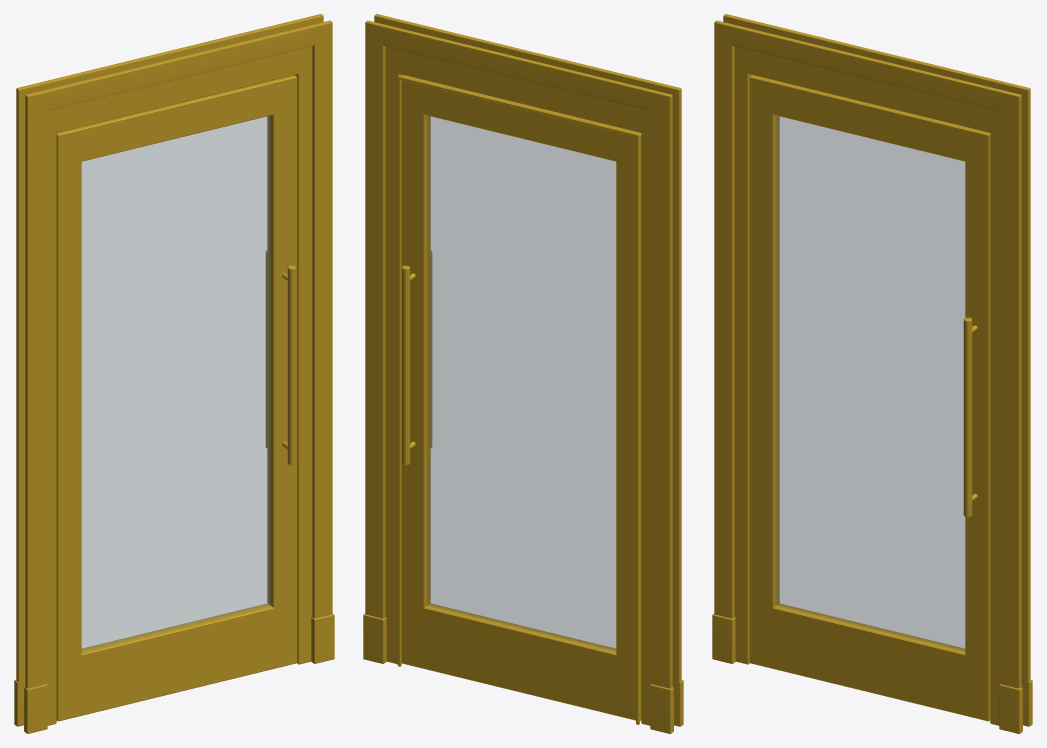
Rendered from prop_door_single_glass_t04.glb.
3 renders of one model, left to right at view 1: azimuth 30°, elevation 25°; view 2: azimuth 150°, elevation 25°; view 3: azimuth 330°, elevation 25°, orthographic.
Parts seen in each view (by area): view 1: LeafMesh, Frame; view 2: LeafMesh, Frame; view 3: LeafMesh, Frame.
Part boxes in pixels (bbox=[...]): LeafMesh: bbox=[56, 75, 297, 721]; Frame: bbox=[14, 14, 334, 733]; LeafMesh: bbox=[401, 75, 641, 720]; Frame: bbox=[363, 14, 683, 733]; LeafMesh: bbox=[749, 75, 990, 721]; Frame: bbox=[712, 14, 1032, 733].
Size of what is drawn, in the model's own units: 1.15 by 2.27 by 0.17.
